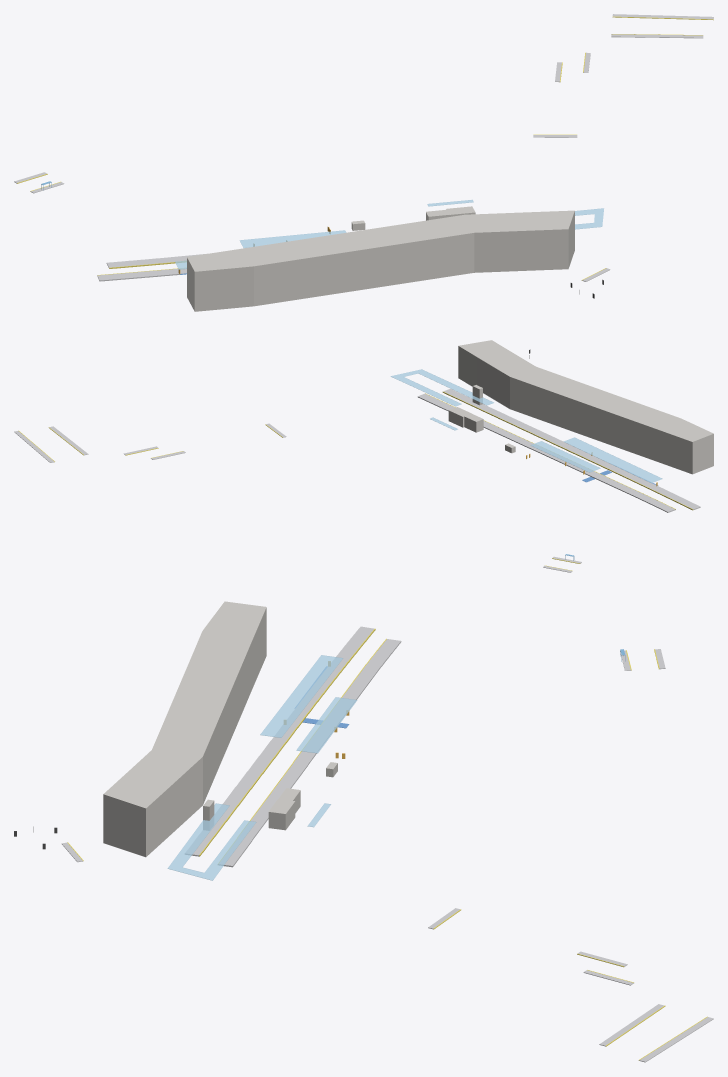
Rendered from 8507078-wabern-bei-bern.glb.
3 renders of one model, top to bottom at view 1: azimuth 30°, elevation 25°; view 2: azimuth 150°, elevation 25°; view 3: azimuth 270°, elevation 25°, orthographic. The views are drawn at different scales.
Parts seen in each view (by area): view 1: building_part@x, platform_body@0, roof@0, boarding_edge@0; view 2: building_part@x, platform_body@0, roof@0, boarding_edge@0; view 3: building_part@x, platform_body@0, roof@0, boarding_edge@0.
Boxes of the visible parts, x1=… form: building_part@x: x1=187, y1=206, x2=574, y2=311; platform_body@0: x1=14, y1=14, x2=713, y2=281; roof@0: x1=175, y1=199, x2=603, y2=269; boarding_edge@0: x1=17, y1=16, x2=713, y2=280; building_part@x: x1=448, y1=340, x2=713, y2=474; platform_body@0: x1=14, y1=388, x2=700, y2=572; roof@0: x1=390, y1=369, x2=662, y2=483; boarding_edge@0: x1=18, y1=391, x2=693, y2=570; building_part@x: x1=103, y1=601, x2=337, y2=857; platform_body@0: x1=61, y1=626, x2=713, y2=1062; roof@0: x1=167, y1=655, x2=357, y2=880; boarding_edge@0: x1=67, y1=628, x2=707, y2=1060.
Size of the model in its own units: 402 by 25.62 by 273.
